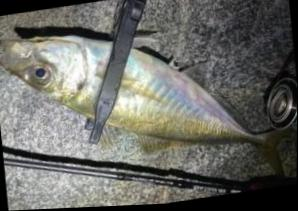fish: (0, 34, 296, 183)
